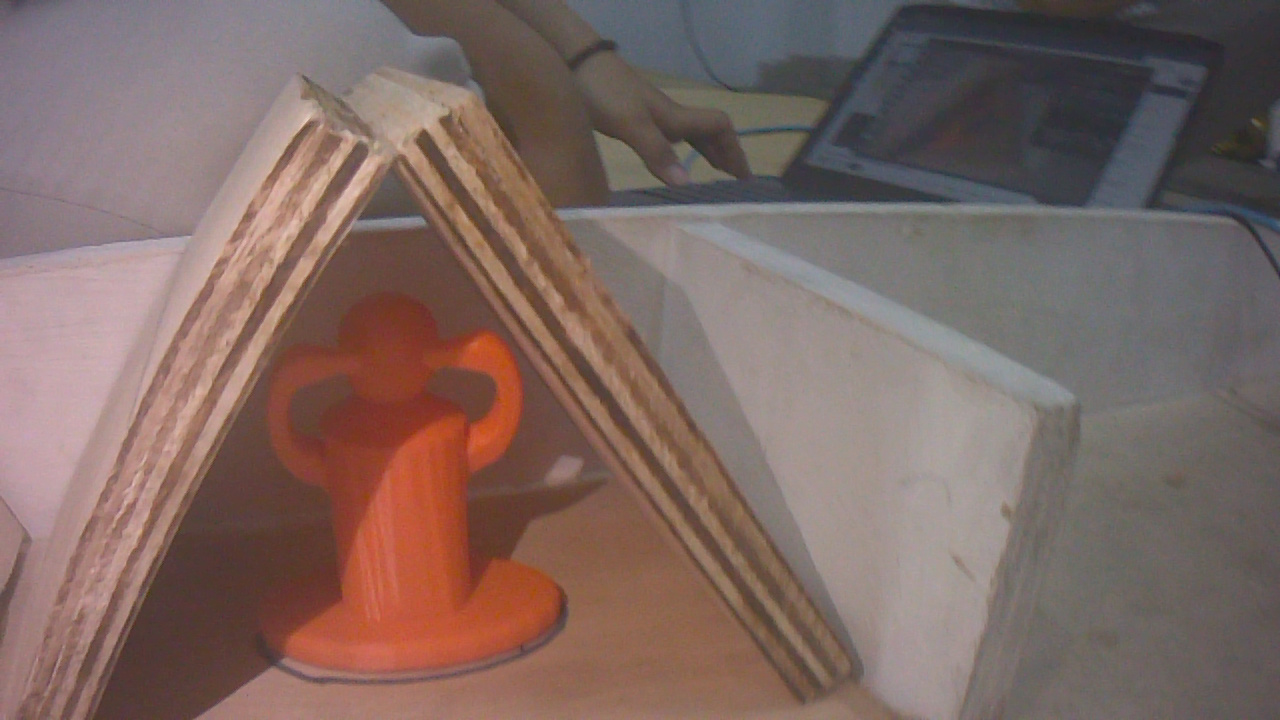real: (252, 282, 567, 686)
